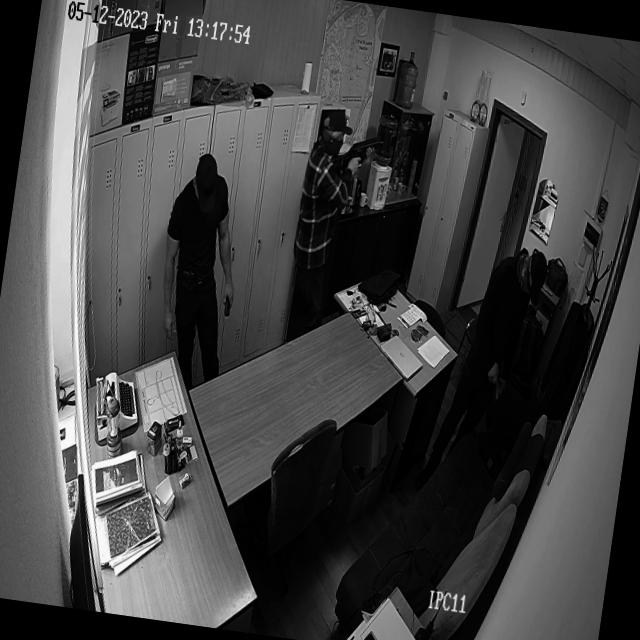gun: (330, 130, 385, 180)
person: (416, 234, 553, 503), (146, 148, 254, 396)
person with a gun: (281, 105, 388, 344)
